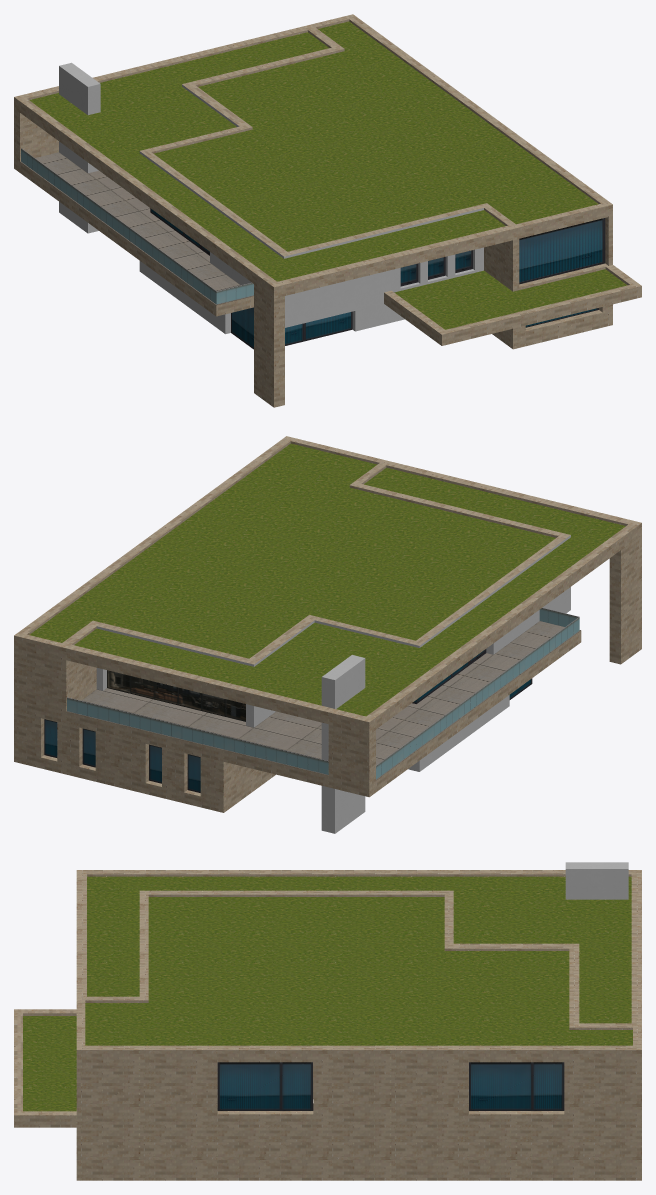
The model's file is SM_DemoBuilding_1_C.fbx.
The picture shows the model from 3 angles, top to bottom: view 1: azimuth 30°, elevation 25°; view 2: azimuth 150°, elevation 25°; view 3: azimuth 270°, elevation 25°; orthographic projection. The views are drawn at different scales.
Parts seen in each view (by area): view 1: SM_DemoBuilding_1_C_LOD0; view 2: SM_DemoBuilding_1_C_LOD0; view 3: SM_DemoBuilding_1_C_LOD0.
Boxes of the visible parts, box(x1,y1,x2,y2) form: SM_DemoBuilding_1_C_LOD0: box(14, 14, 641, 407); SM_DemoBuilding_1_C_LOD0: box(14, 436, 641, 833); SM_DemoBuilding_1_C_LOD0: box(14, 862, 641, 1180).
Size of what is drawn, in the model's own units: 26.76 by 11.06 by 39.48.
